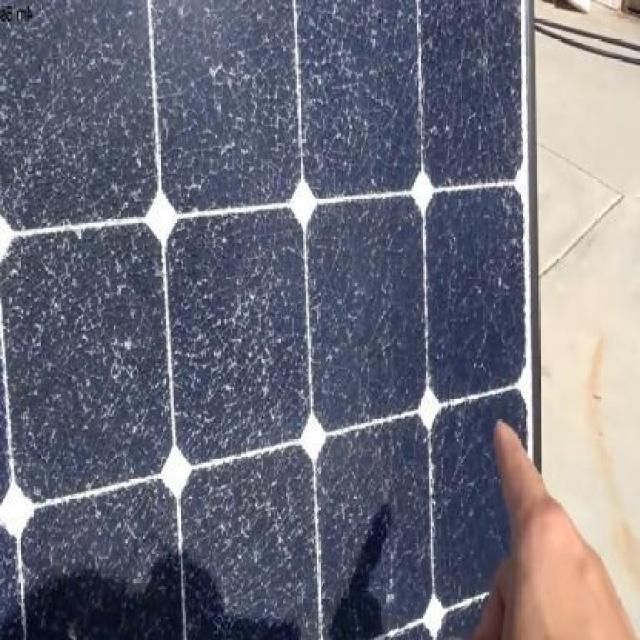cracked: (3, 0, 521, 639)
